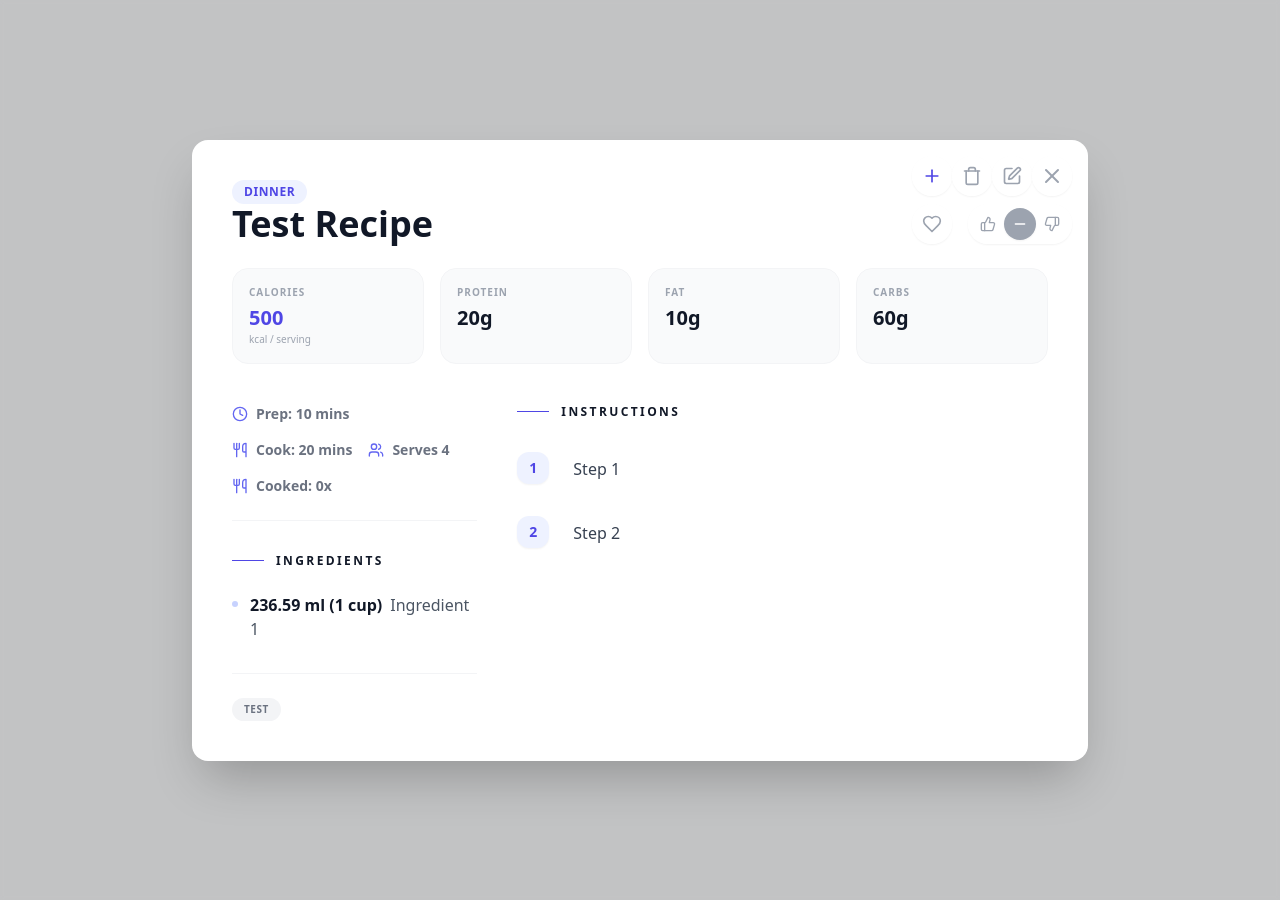
Test case: RecipeModal › can cancel editing
This screenshot has width=1280, height=900.
Click the button titled "Edit Recipe" at (1012, 176), box [992,156,1032,196]
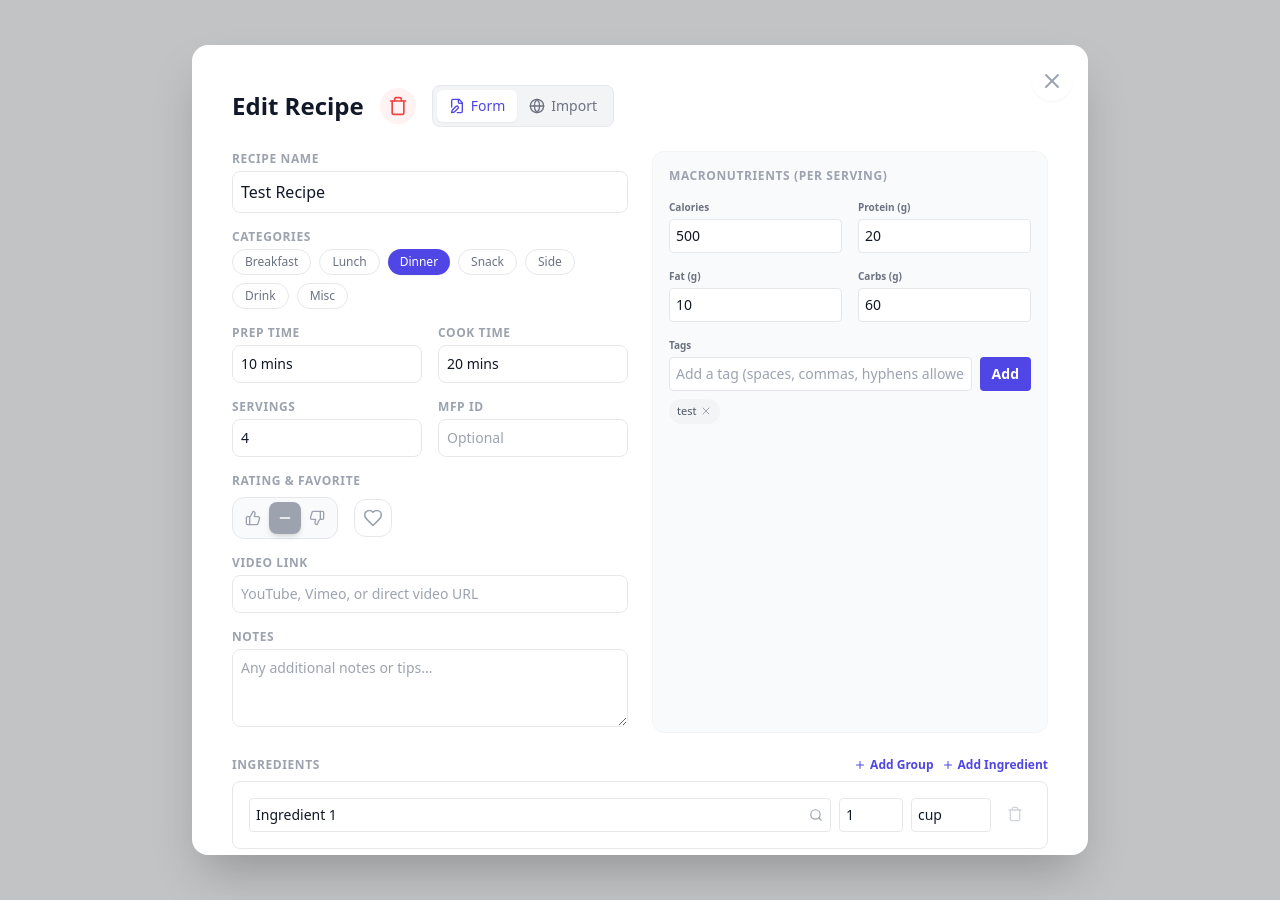
Replace the text in the field showing "Test Recipe" below "Recipe Name" with "Updated Recipe" at (430, 192), box [232,171,628,213]
(page scrolled)
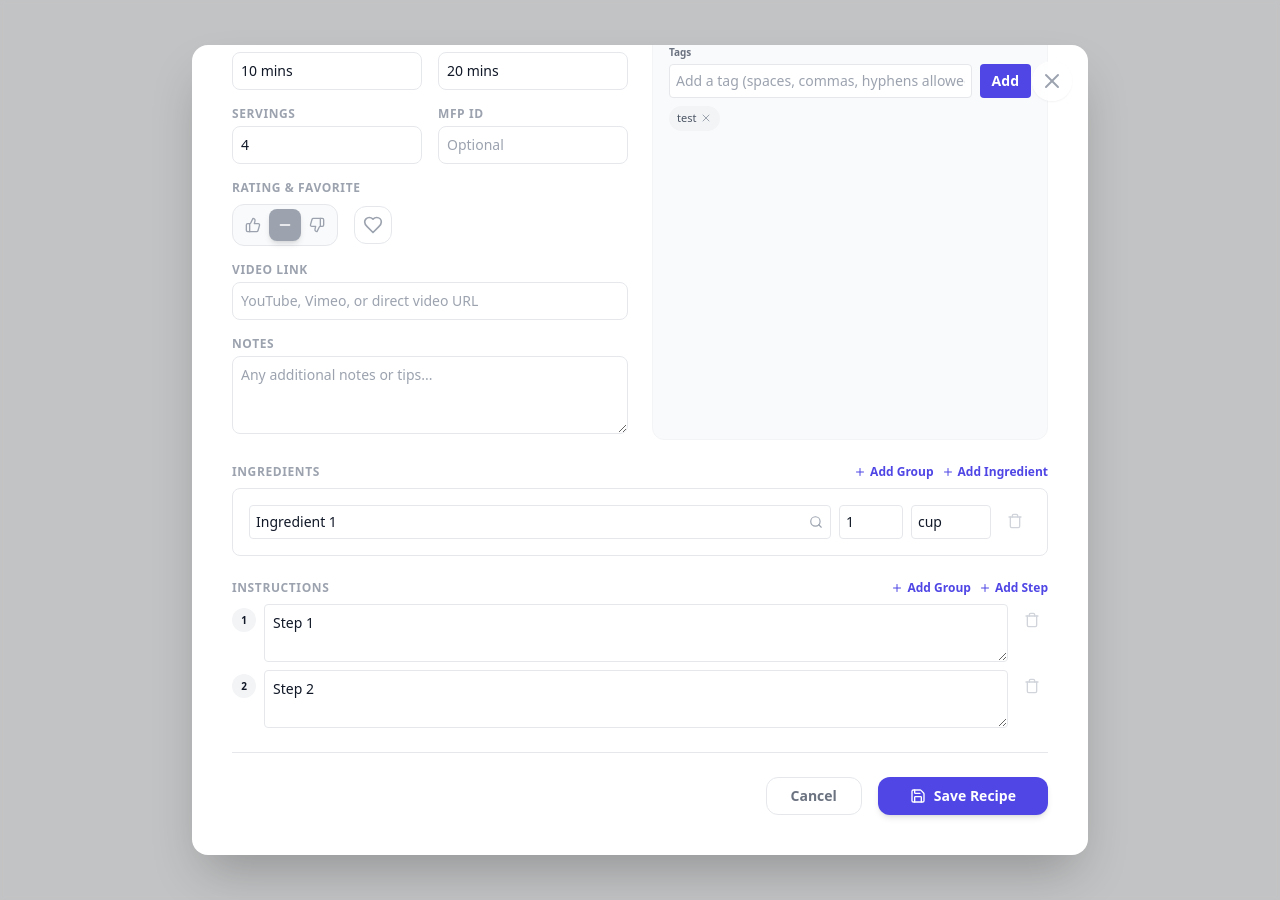
Click the button "Cancel" at (814, 796), box [766,777,862,815]
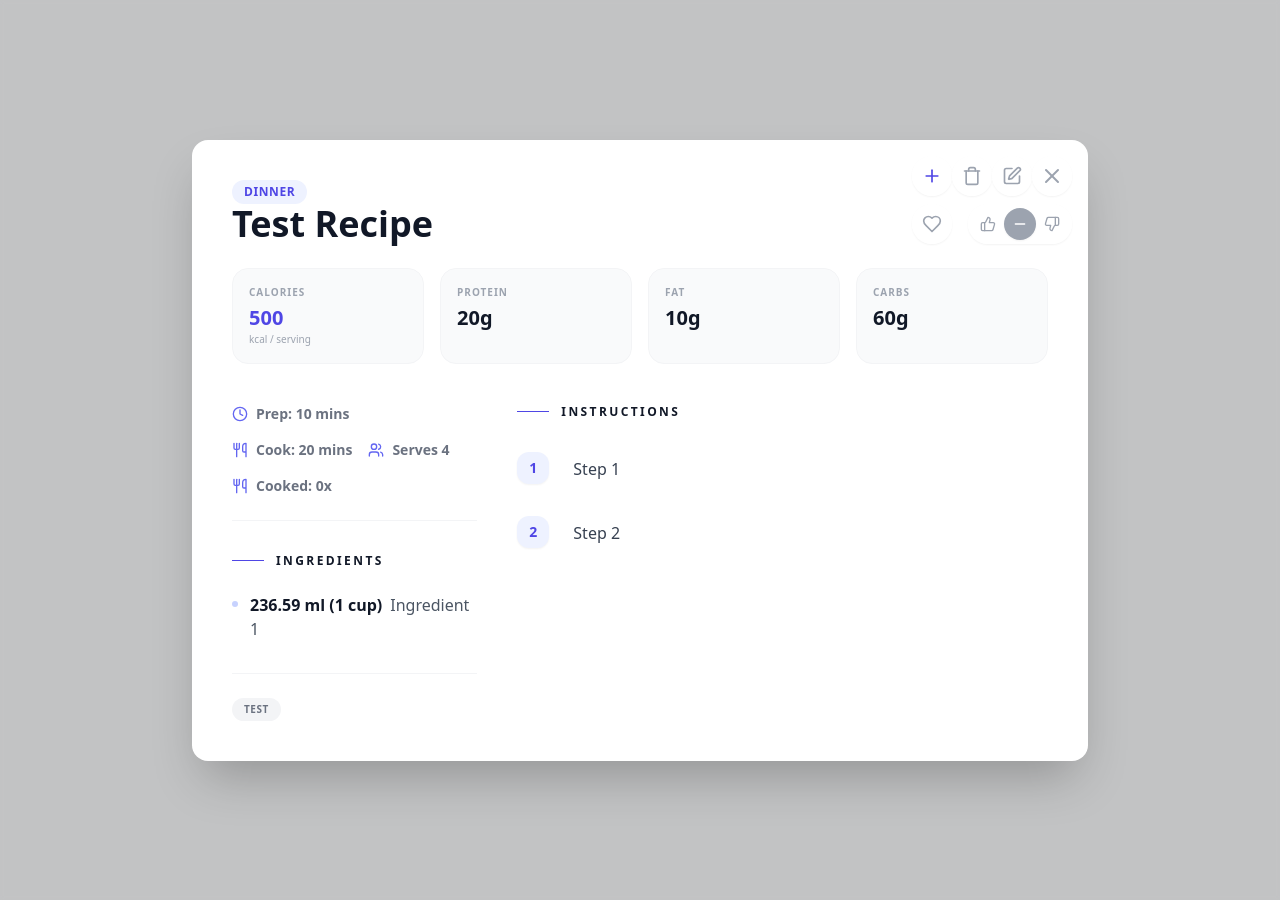
Check: the heading "Test Recipe" is shown, box [232,198,433,248]
